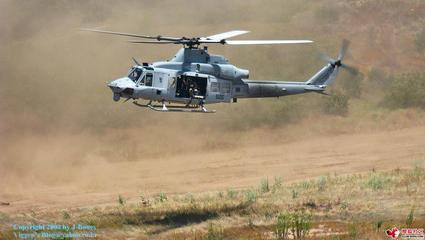airplane: (69, 19, 353, 119)
